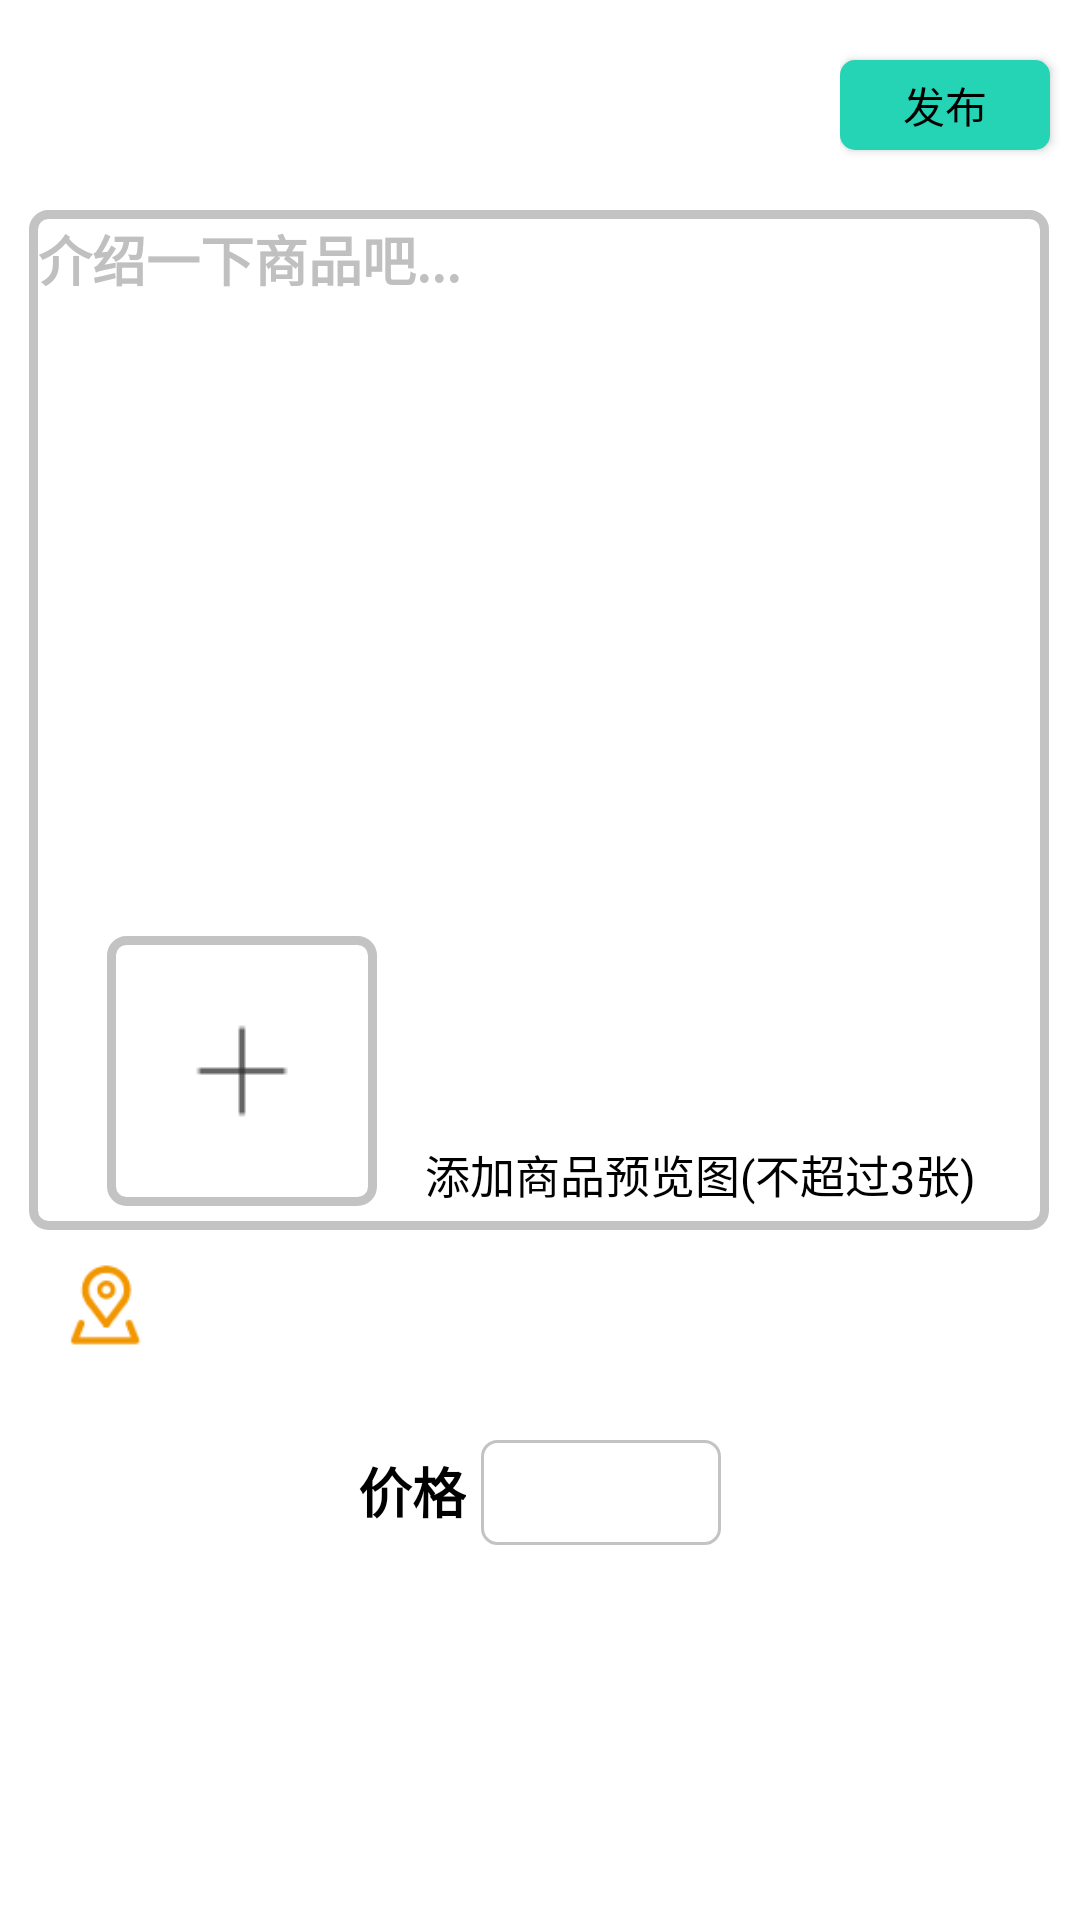

Icons on this 1080x1920 Android screen, each with its box as (x1, y1, x2, y2):
location: (70, 1265, 141, 1345)
publish product add: (107, 936, 377, 1206)
